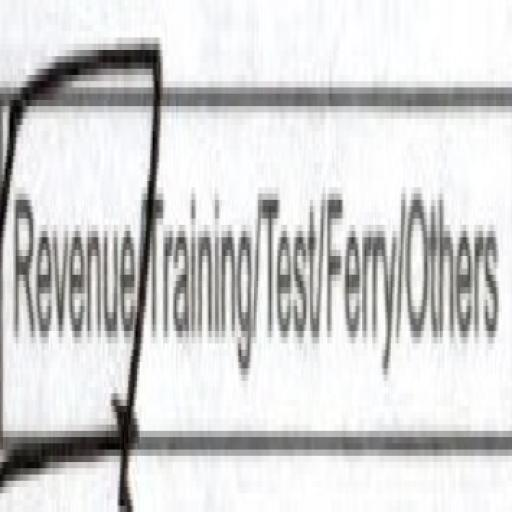check: (0, 2, 138, 511)
